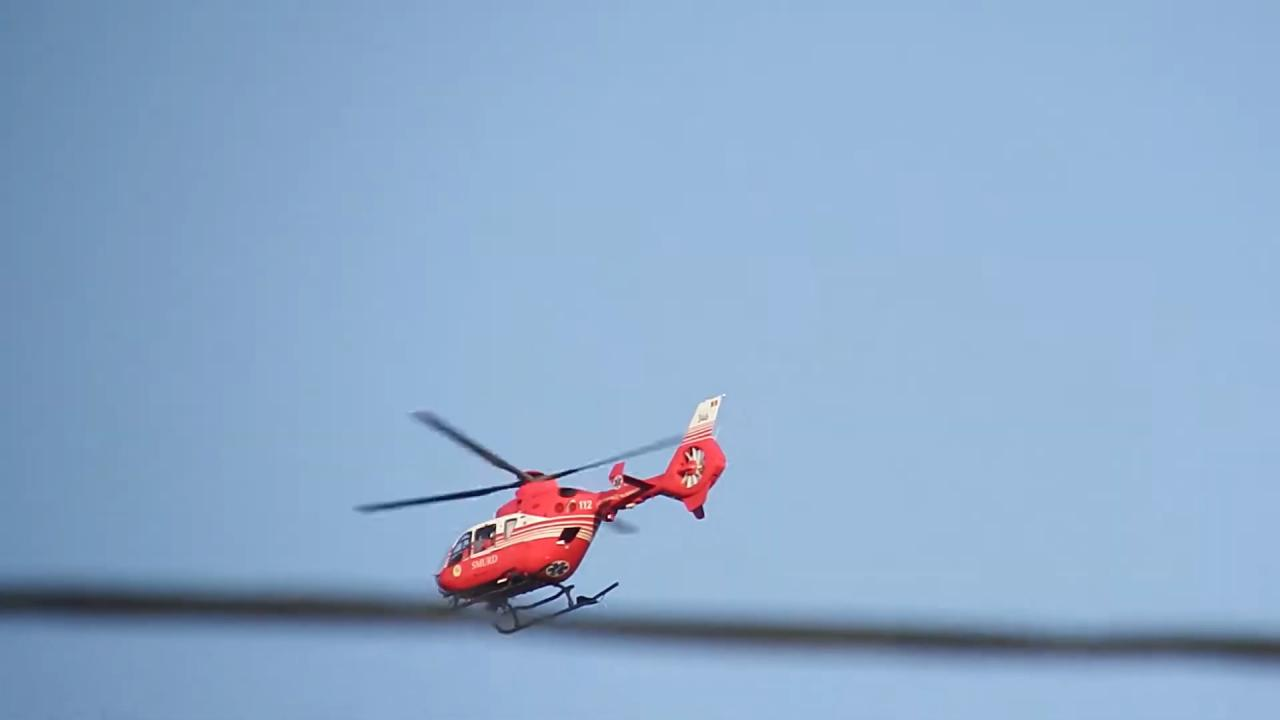Helicopter: (348, 385, 746, 648)
